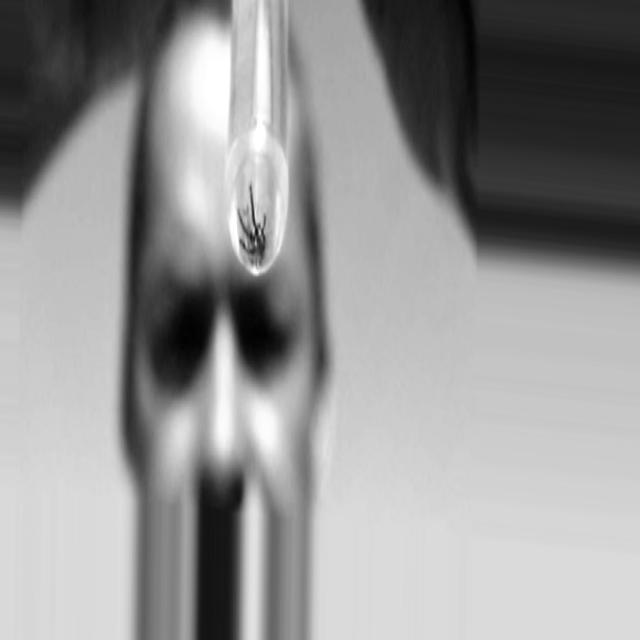larvas: (248, 184, 258, 228), (237, 209, 251, 237), (253, 226, 264, 259), (239, 235, 255, 257), (260, 209, 268, 251)
